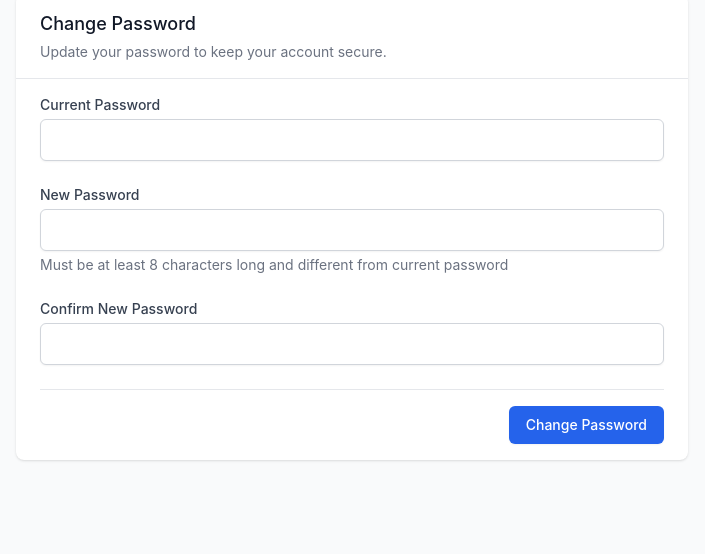
Test: PasswordChangeForm › handles password change failure
In the password field labelled "Current Password": (352, 140) [40,119,664,161], type "wrongpassword"
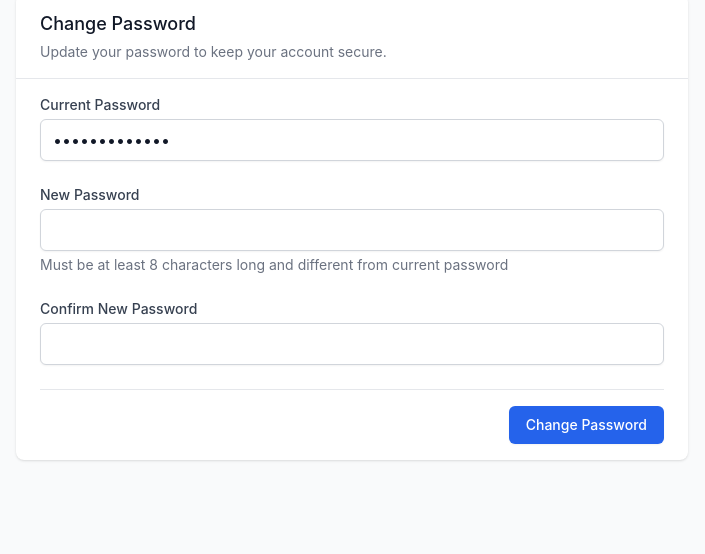
In the password field labelled "New Password": (352, 230) [40,209,664,251], type "newpassword123"
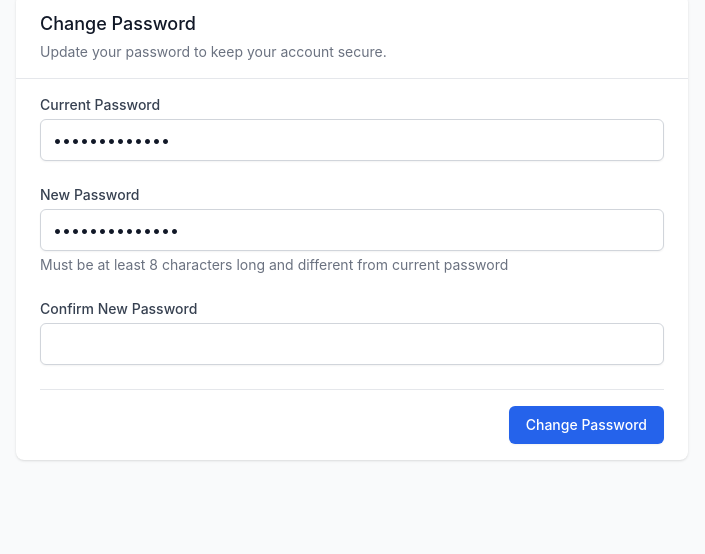
In the password field labelled "Confirm New Password": (352, 344) [40,323,664,365], type "newpassword123"
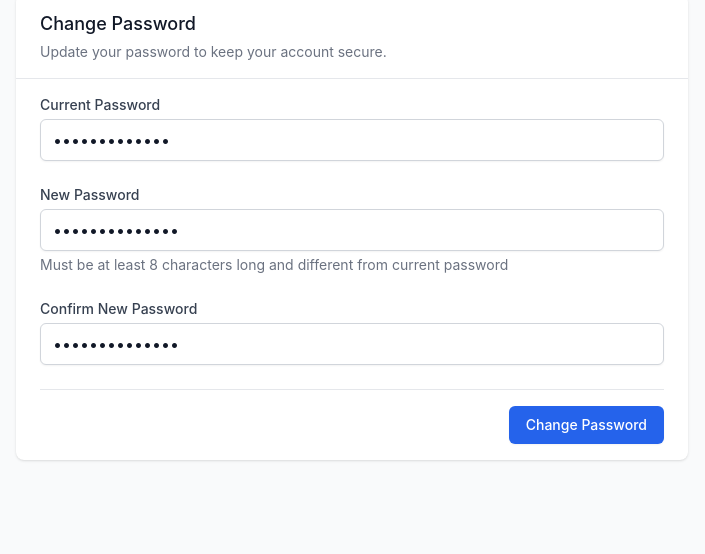
Click the button "Change Password": (586, 425) [509,406,664,444]
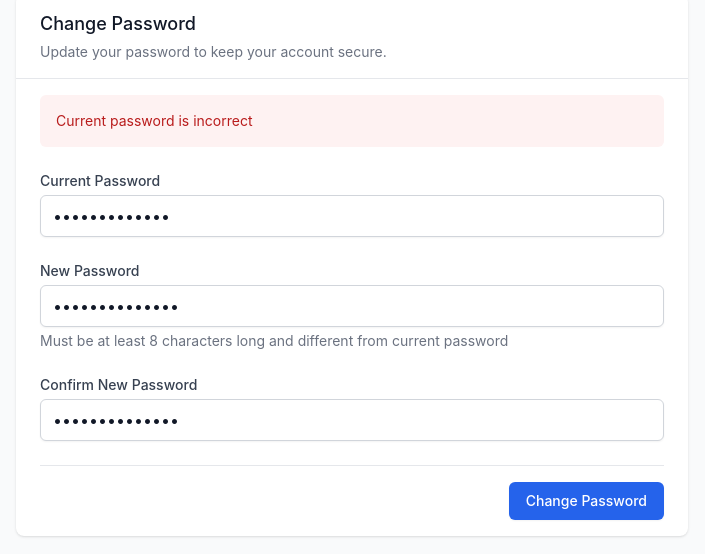
Now the text "Current password is incorrect" is shown, box [56,112,252,129]
